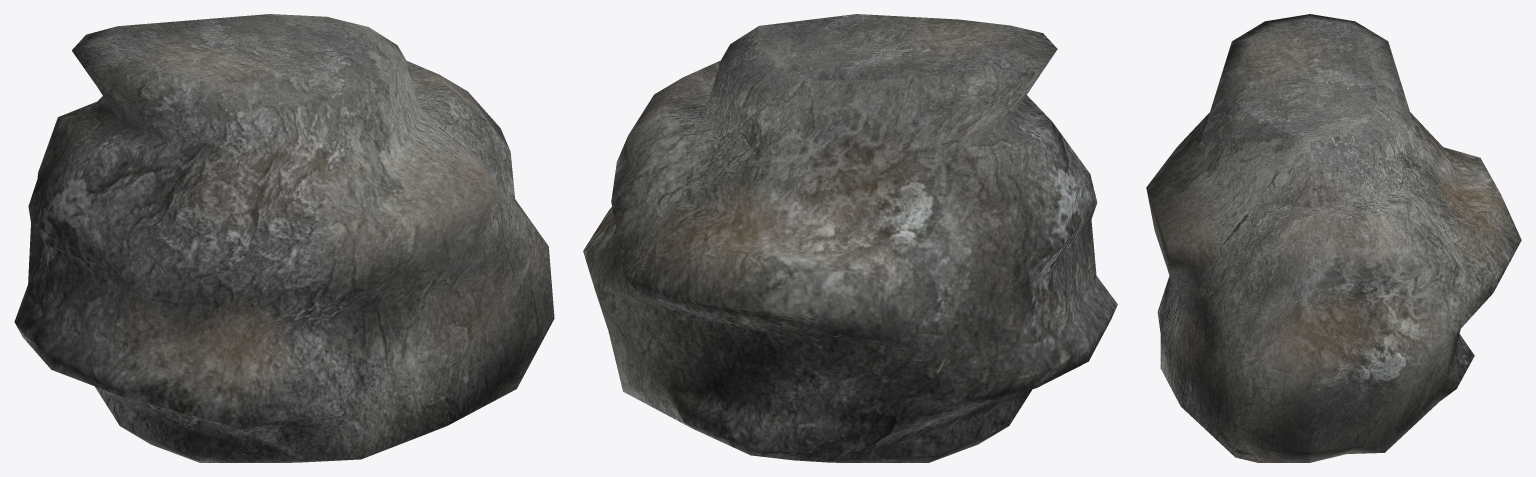
File: Large Rock 1.FBX
3 views of the same model, side by side, from view 1: azimuth 30°, elevation 25°; view 2: azimuth 150°, elevation 25°; view 3: azimuth 270°, elevation 25° (orthographic). The views are drawn at different scales.
Visible parts, largest first — view 1: Rock 1; view 2: Rock 1; view 3: Rock 1.
Boxes of the visible parts, <box> form: Rock 1: <box>14,14,554,462</box>; Rock 1: <box>583,14,1117,462</box>; Rock 1: <box>1146,14,1521,462</box>.
Bounding box in the file's own units: 32.72 × 28.66 × 26.49.
